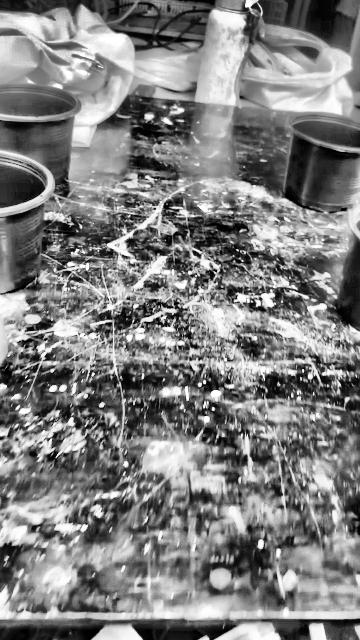pot: (0, 83, 82, 212), (0, 152, 53, 294), (287, 113, 360, 214), (337, 209, 359, 331)
